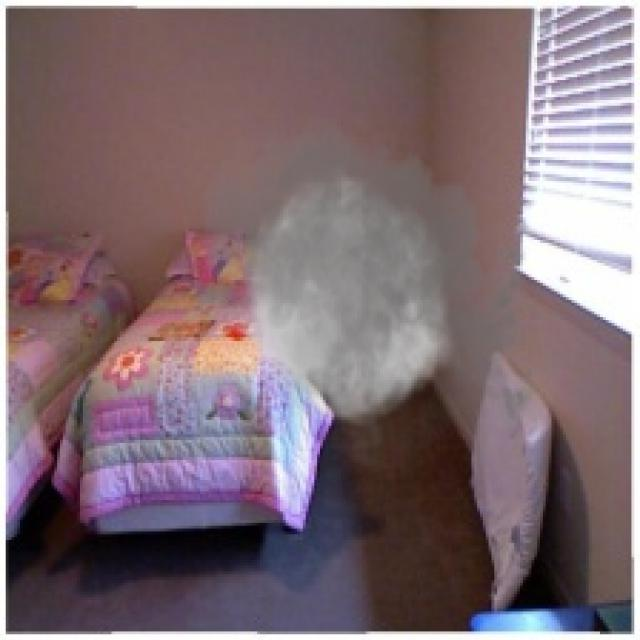smoke: (188, 103, 548, 491)
